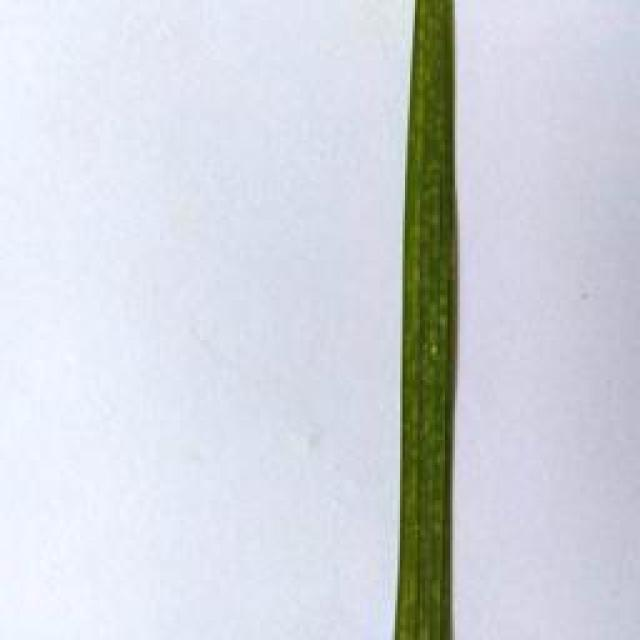Healthy-Plant: (388, 0, 467, 640)
